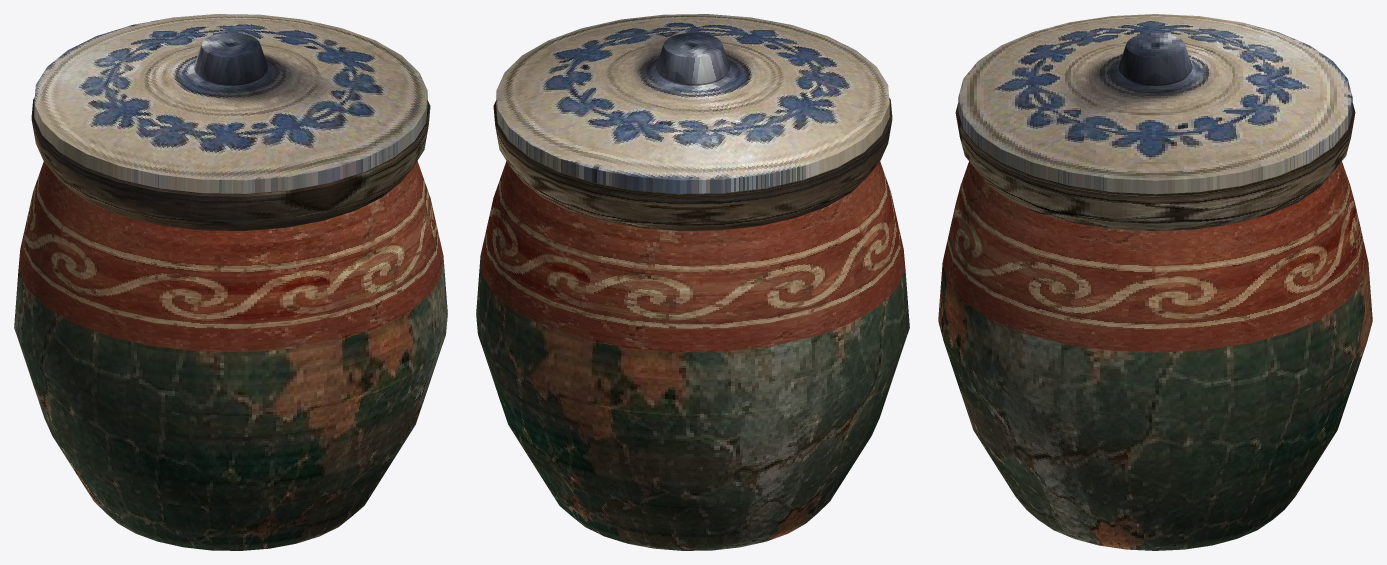
File: urn_worn.glb
3 views of the same model, side by side, from view 1: azimuth 30°, elevation 25°; view 2: azimuth 150°, elevation 25°; view 3: azimuth 270°, elevation 25° (orthographic).
Visible parts, largest first — view 1: body, piece_11, piece_06, piece_07, piece_10, piece_01, piece_09, piece_05, piece_08, piece_00, piece_02; view 2: body, piece_09, piece_10, piece_11, piece_08, piece_07, piece_04, piece_06, piece_00, piece_05; view 3: body, piece_07, piece_08, piece_06, piece_09, piece_02, piece_11, piece_10, piece_03, piece_01, piece_04.
Boxes of the visible parts, <box> form: body: <box>14,98,447,550</box>; piece_11: <box>71,45,241,339</box>; piece_06: <box>228,47,419,341</box>; piece_07: <box>227,34,445,318</box>; piece_10: <box>21,42,216,292</box>; piece_01: <box>240,319,422,550</box>; piece_09: <box>55,14,227,66</box>; piece_05: <box>63,307,241,550</box>; piece_08: <box>218,14,378,56</box>; piece_00: <box>18,249,133,532</box>; piece_02: <box>405,285,447,419</box>; body: <box>476,98,909,550</box>; piece_09: <box>514,48,705,358</box>; piece_10: <box>699,50,885,351</box>; piece_11: <box>699,39,901,275</box>; piece_08: <box>481,44,686,304</box>; piece_07: <box>507,14,698,69</box>; piece_04: <box>513,341,702,550</box>; piece_06: <box>689,14,858,63</box>; piece_00: <box>693,277,895,550</box>; piece_05: <box>886,233,905,359</box>; body: <box>938,103,1372,550</box>; piece_07: <box>976,43,1192,388</box>; piece_08: <box>1165,46,1345,387</box>; piece_06: <box>942,39,1151,325</box>; piece_09: <box>1163,36,1369,328</box>; piece_02: <box>973,327,1187,550</box>; piece_11: <box>982,15,1162,63</box>; piece_10: <box>1132,14,1317,60</box>; piece_03: <box>1168,351,1337,550</box>; piece_01: <box>938,263,1048,526</box>; piece_04: <box>1271,279,1372,520</box>.
Bounding box in the file's own units: 0.52 × 0.595 × 0.52.
1 material, 1 textured.
